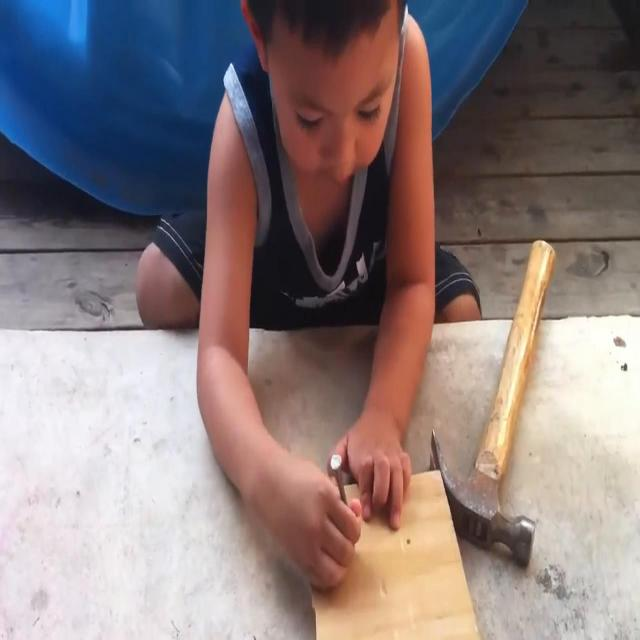hammer: (430, 241, 558, 566)
